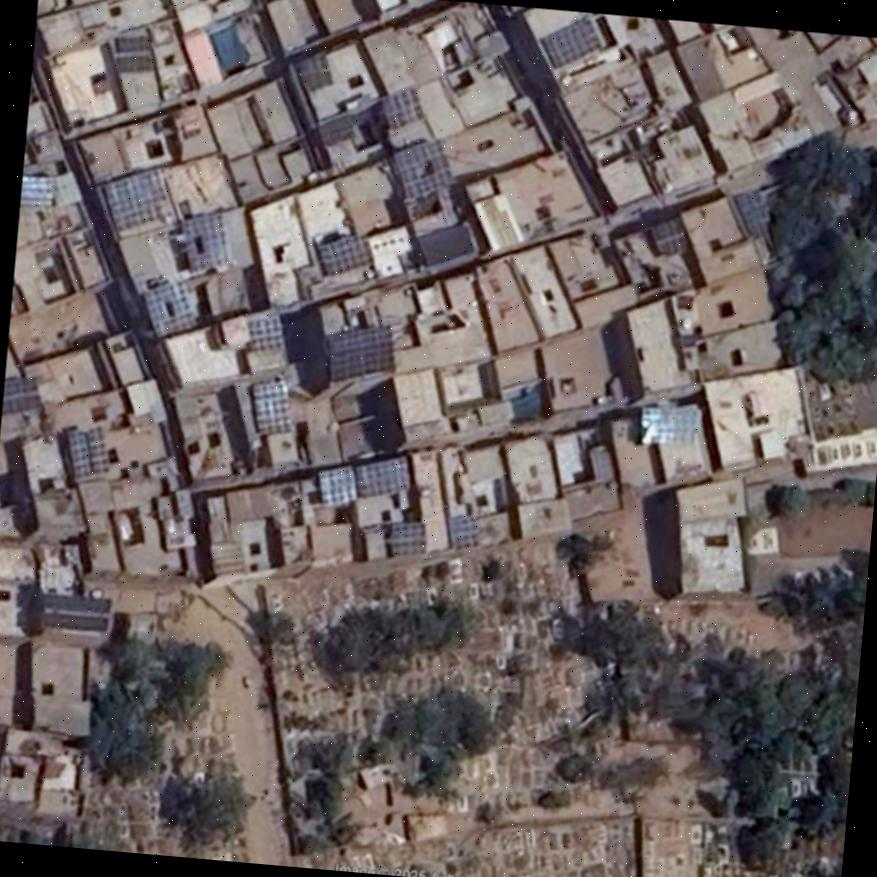Solarpanel: (318, 455, 409, 503), (103, 168, 172, 228), (326, 323, 392, 379), (394, 135, 450, 198), (539, 17, 601, 65), (143, 280, 195, 333), (181, 210, 224, 268), (380, 82, 426, 127), (320, 234, 373, 273), (640, 407, 695, 443), (251, 382, 288, 430), (69, 430, 107, 472), (245, 316, 285, 349), (390, 520, 424, 552), (19, 174, 53, 205), (451, 515, 477, 548)
